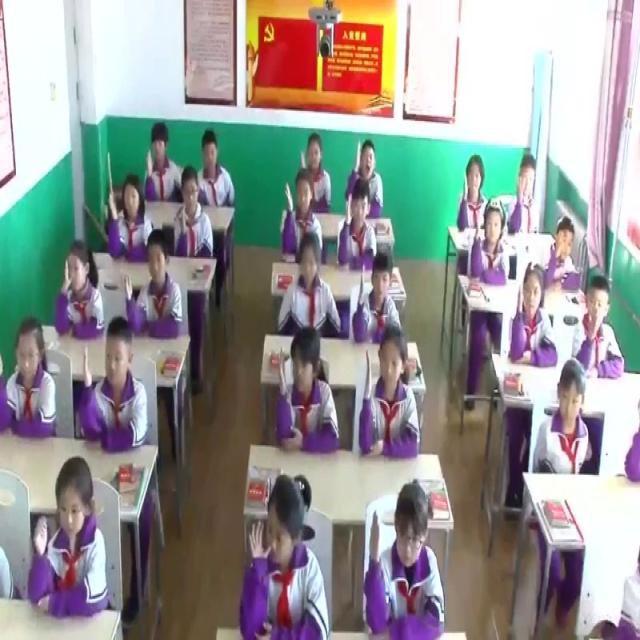focused: (277, 234, 344, 342), (534, 356, 593, 478), (194, 126, 234, 205)
raising_hand: (237, 467, 330, 640), (366, 479, 447, 640), (30, 455, 108, 612), (80, 320, 148, 444), (358, 330, 422, 460), (277, 331, 337, 451), (0, 314, 56, 438), (124, 230, 178, 342), (572, 275, 629, 380), (354, 247, 407, 347), (512, 262, 560, 370), (55, 242, 103, 338), (337, 177, 381, 281), (106, 174, 156, 259), (469, 197, 514, 289), (282, 166, 324, 263), (174, 165, 214, 260), (143, 120, 186, 208), (344, 140, 386, 214), (457, 155, 494, 238), (297, 133, 332, 218), (545, 214, 581, 294), (508, 152, 543, 233)
